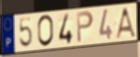4: (58, 12, 74, 46), (98, 8, 114, 42)
5: (18, 17, 34, 49)
A: (114, 6, 137, 40)
O: (37, 14, 55, 48)
P: (76, 10, 95, 44)
